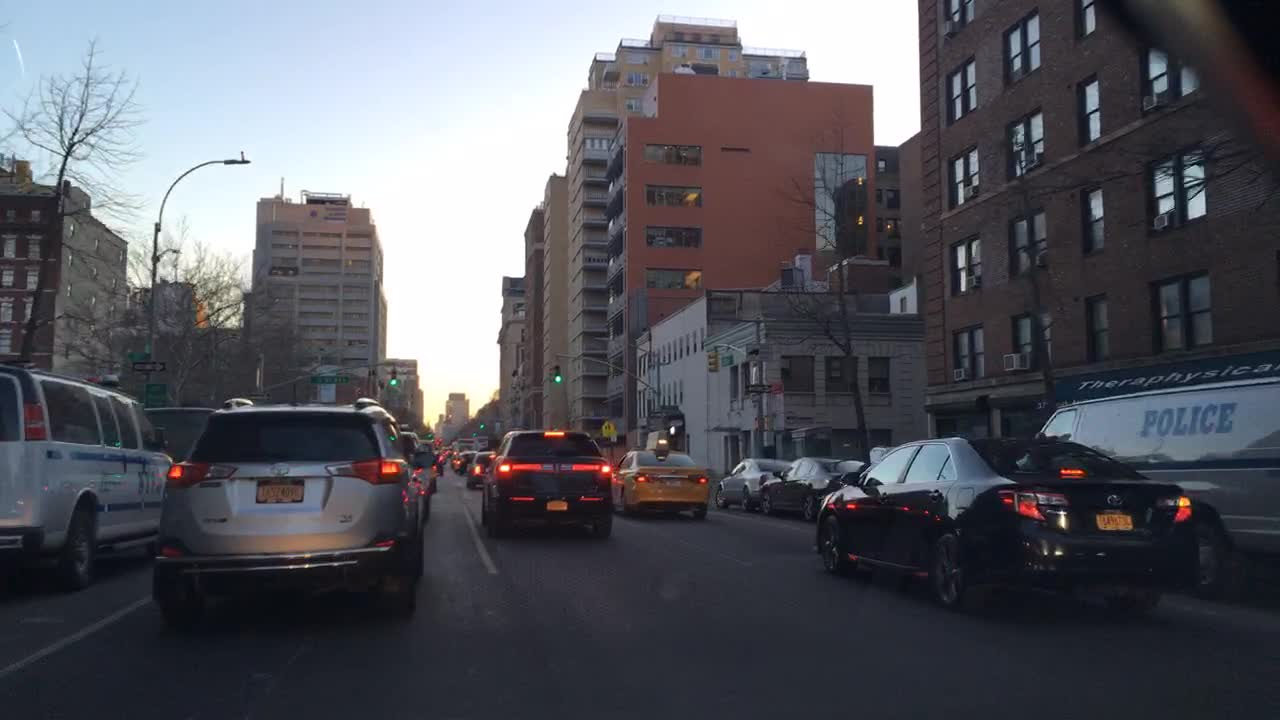bus: (0, 362, 176, 591)
car: (812, 434, 1199, 627), (149, 398, 427, 632), (478, 426, 612, 539), (612, 428, 710, 516), (760, 455, 874, 524), (715, 455, 790, 512), (143, 405, 213, 461), (400, 426, 439, 489), (420, 428, 445, 482), (466, 450, 498, 491), (448, 434, 481, 473), (456, 447, 484, 476), (862, 443, 887, 461)
traffic light: (704, 348, 717, 370), (552, 359, 562, 383), (667, 422, 680, 440), (546, 356, 553, 389), (388, 368, 394, 387)
traffic sign: (311, 374, 349, 386), (745, 344, 772, 359), (739, 384, 770, 395), (144, 381, 164, 398), (770, 380, 787, 396), (721, 356, 737, 369)
truck: (1013, 374, 1278, 591)
